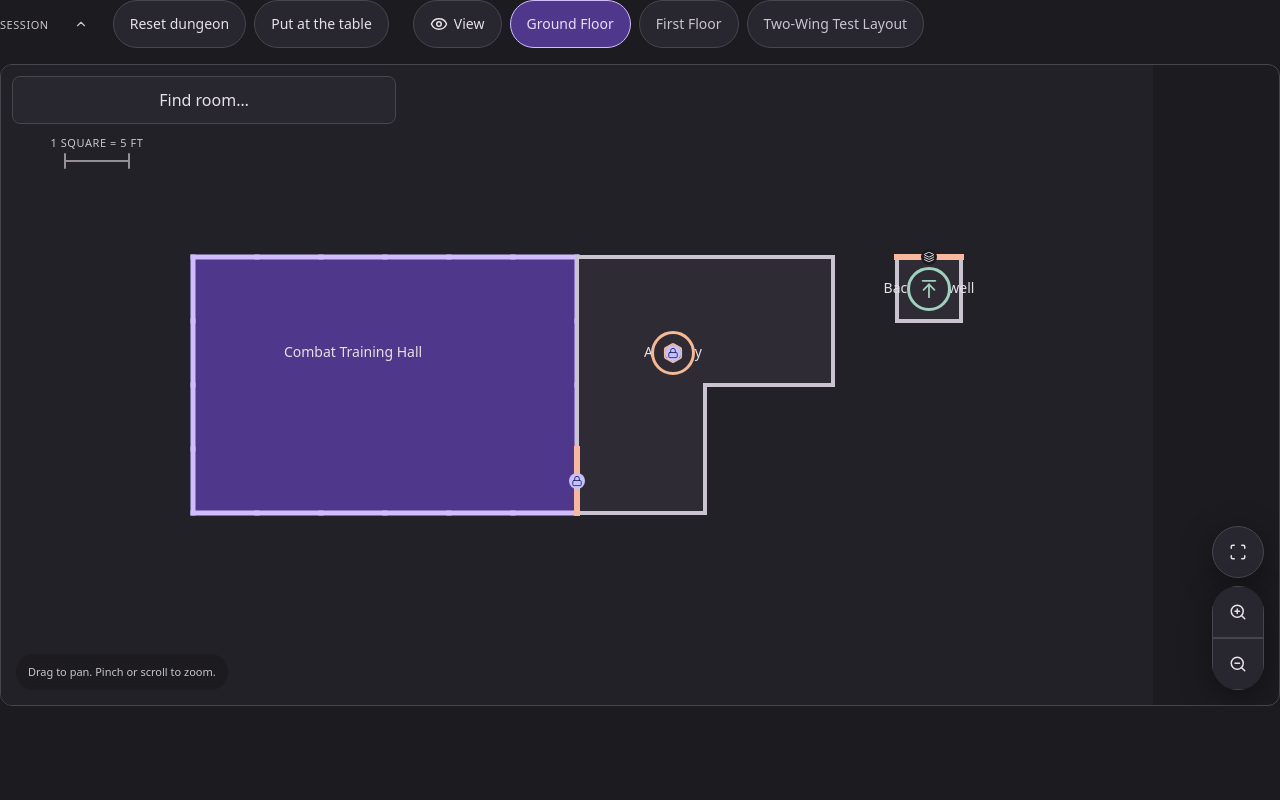
MapLabPage (density control) › renders Detailed / Auto / Simple buttons in the View toolbar
expect the button "Detailed" is not shown: met
expect the button "Auto" is not shown: met
What coordinates should you click on to do the following:
click the button "View"
I would click on:
 (457, 24)
Its box is [413, 0, 502, 48].
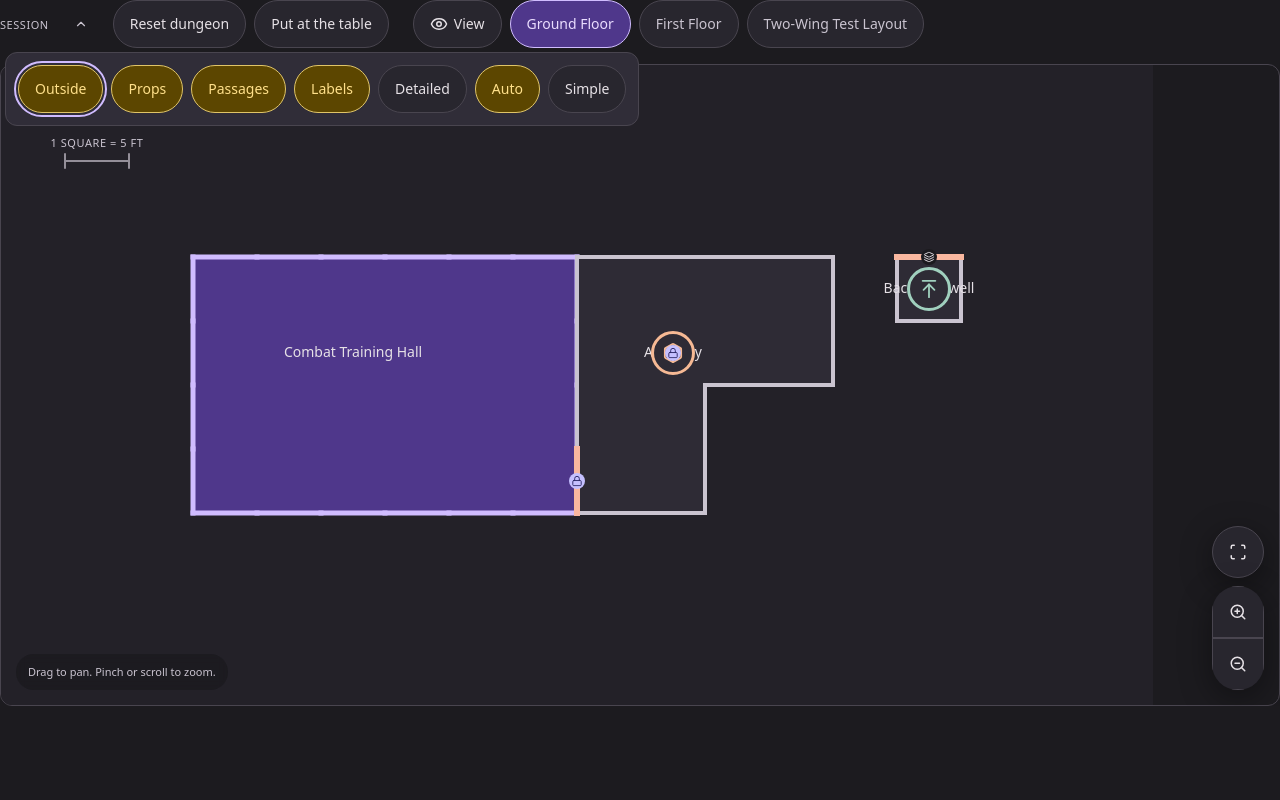
expect the button "Detailed" is shown: met, box [378, 65, 467, 113]
expect the button "Auto" is shown: met, box [475, 65, 540, 113]
expect the button "Simple" is shown: met, box [548, 65, 626, 113]
